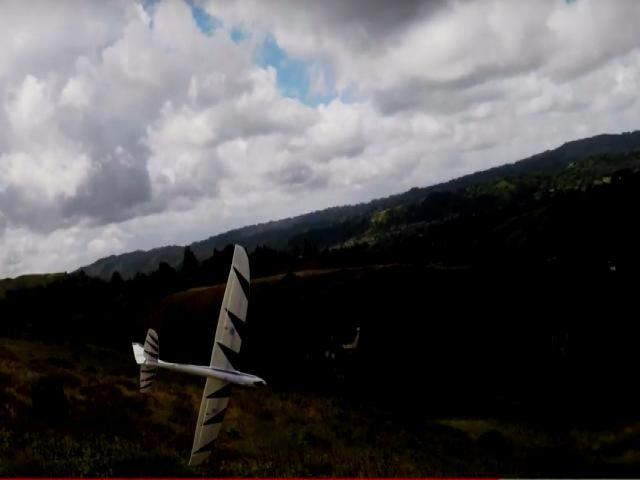iha: (133, 243, 264, 473)
